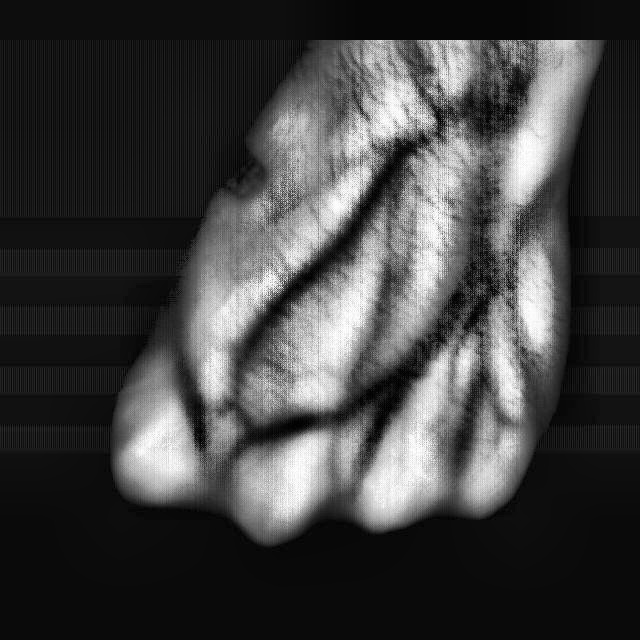Vein: (237, 150, 412, 370), (389, 170, 524, 400)
